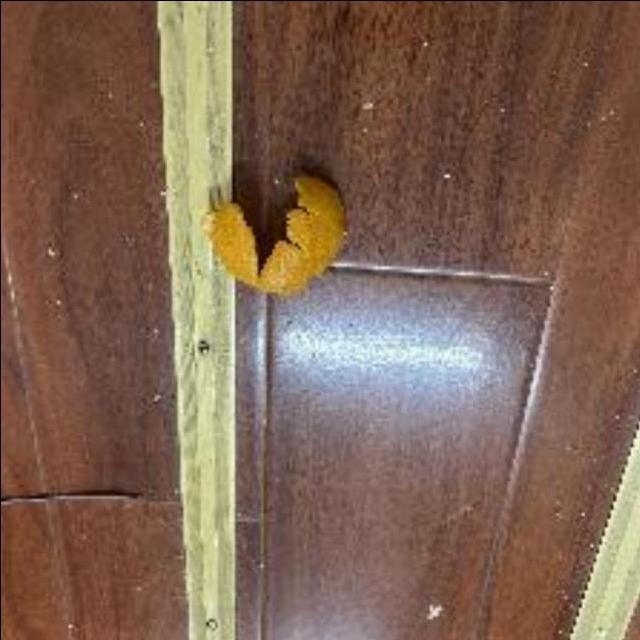orange peel: (200, 172, 359, 300)
